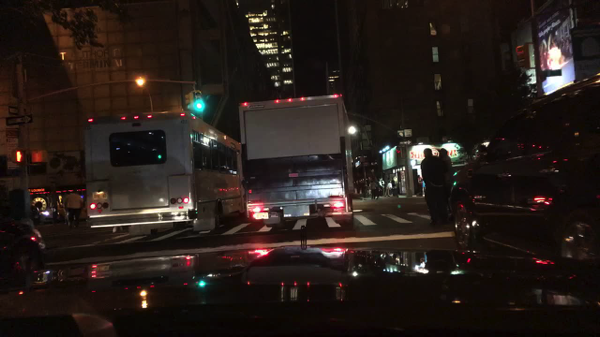bus: (82, 108, 247, 239)
car: (447, 72, 600, 261), (0, 218, 47, 293), (0, 199, 42, 226)
person: (419, 147, 450, 226), (63, 189, 84, 228), (439, 147, 455, 197), (59, 190, 73, 228), (368, 180, 375, 199), (389, 180, 396, 198), (375, 183, 381, 199)
traffic light: (514, 44, 529, 69), (30, 151, 50, 164), (194, 89, 204, 112), (11, 151, 24, 164), (184, 91, 191, 110), (396, 147, 401, 154)
traffic sign: (570, 26, 600, 81), (7, 116, 36, 125), (543, 69, 562, 76), (7, 106, 20, 113), (403, 129, 412, 139), (400, 140, 412, 145)
truck: (237, 94, 358, 234)
